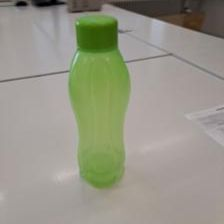bottle: (65, 15, 135, 188)
